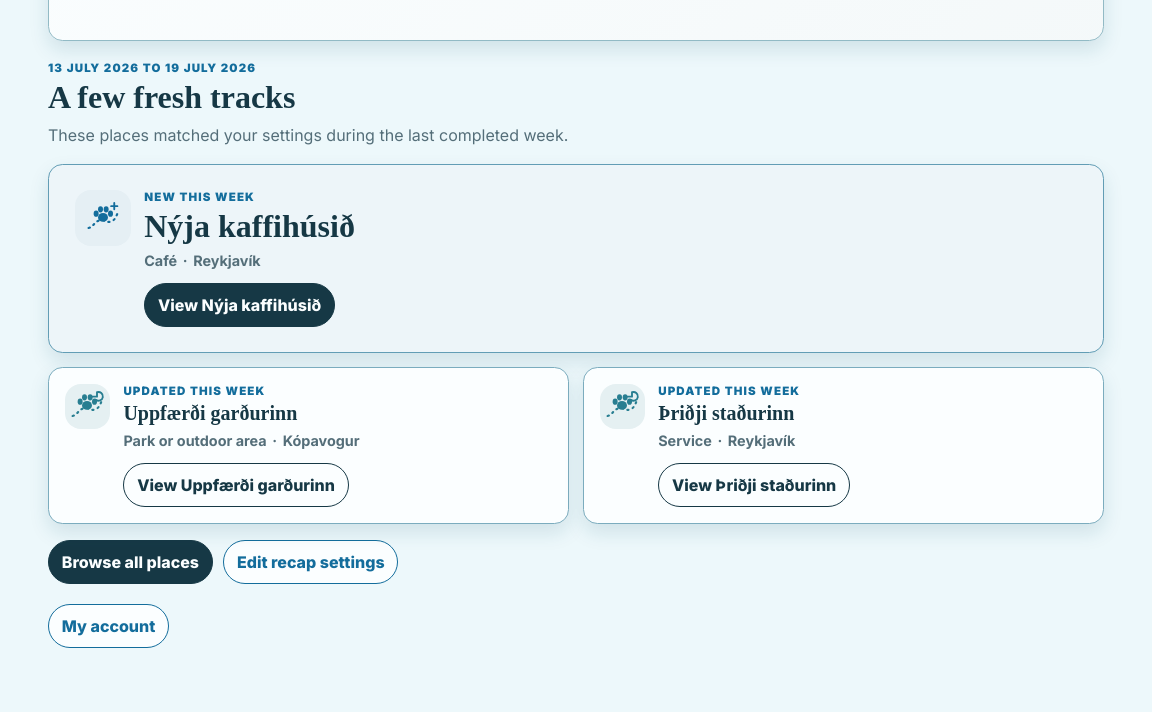
it: Weekly recap › opens populated settings with current email interest visible and withdrawable
(page scrolled)
Click the button "Edit recap settings" at (311, 562), box [223, 540, 398, 584]
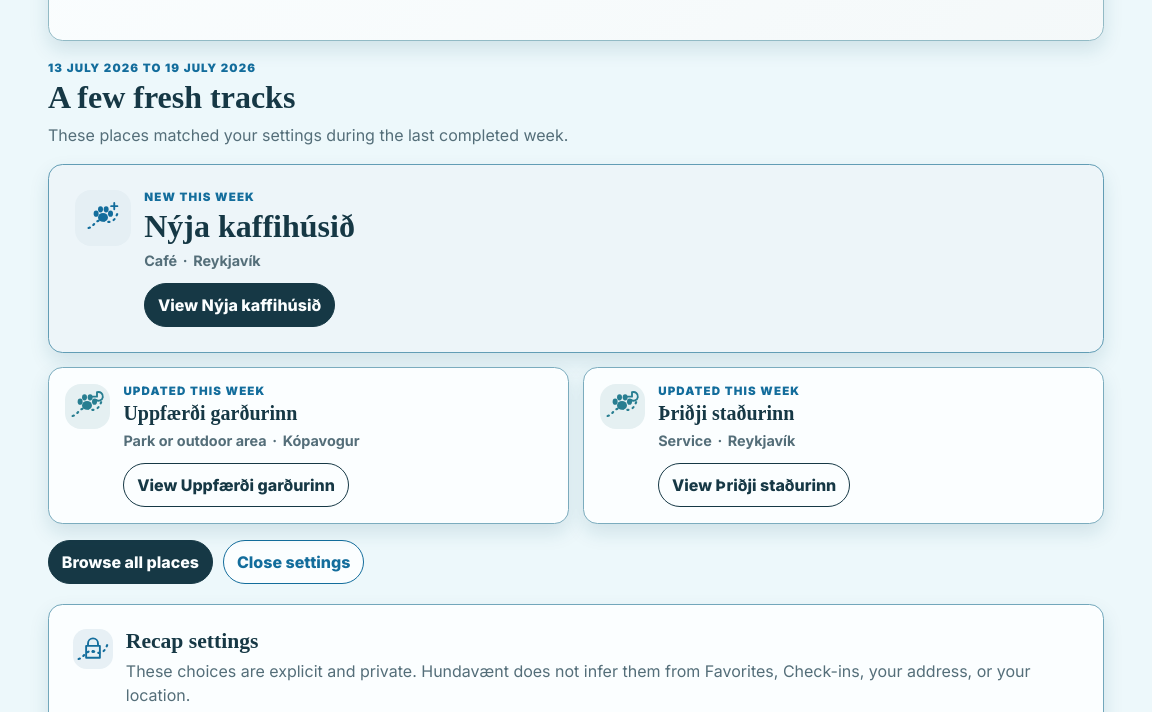
Result: the button "Close settings" is shown at [223, 540, 364, 584]
